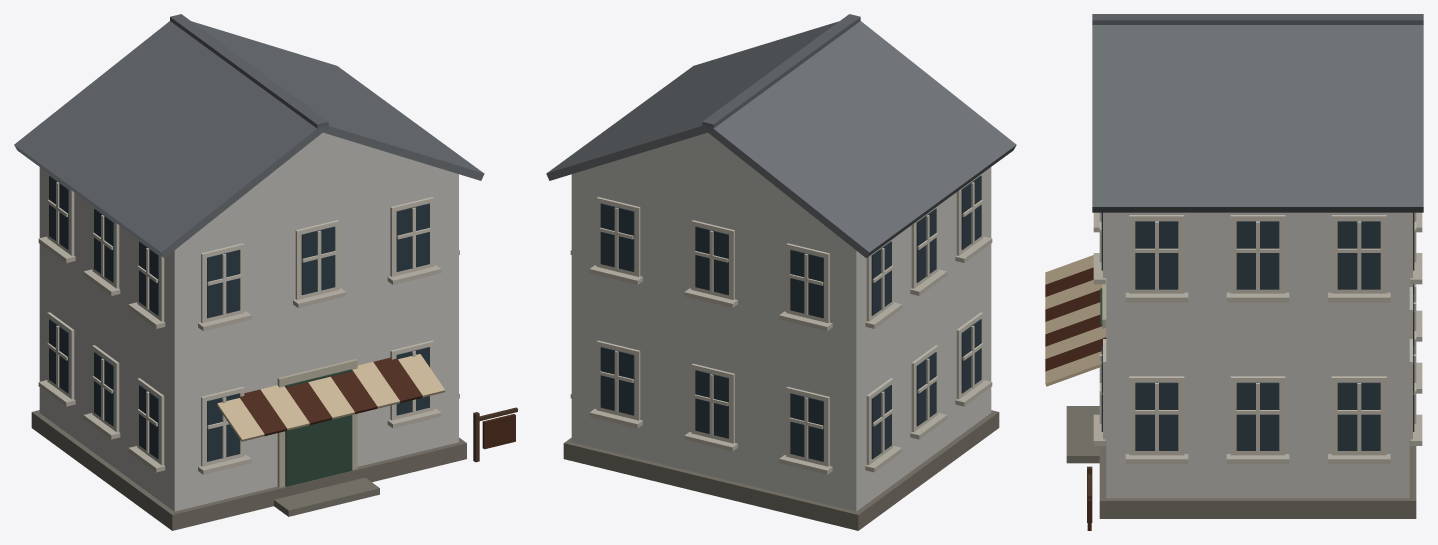
The model's file is procedural_chocolatier@6.glb.
3 renders of one model, left to right at view 1: azimuth 30°, elevation 25°; view 2: azimuth 150°, elevation 25°; view 3: azimuth 270°, elevation 25°, orthographic. The views are drawn at different scales.
Visible parts, largest first — view 1: part_0; view 2: part_0; view 3: part_0.
Part boxes in pixels (x1,y1,x2,y2): part_0: (14, 14, 517, 530); part_0: (546, 14, 1016, 530); part_0: (1045, 14, 1423, 530).
Size of the model in its own units: 6.98 by 7.04 by 5.73.
